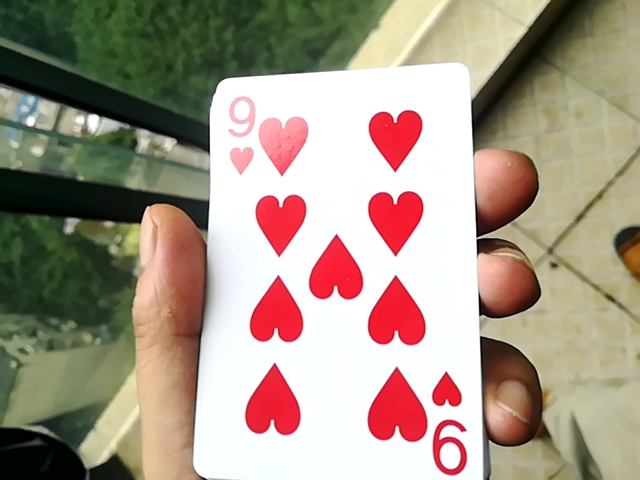hx 9: (177, 64, 479, 480)
